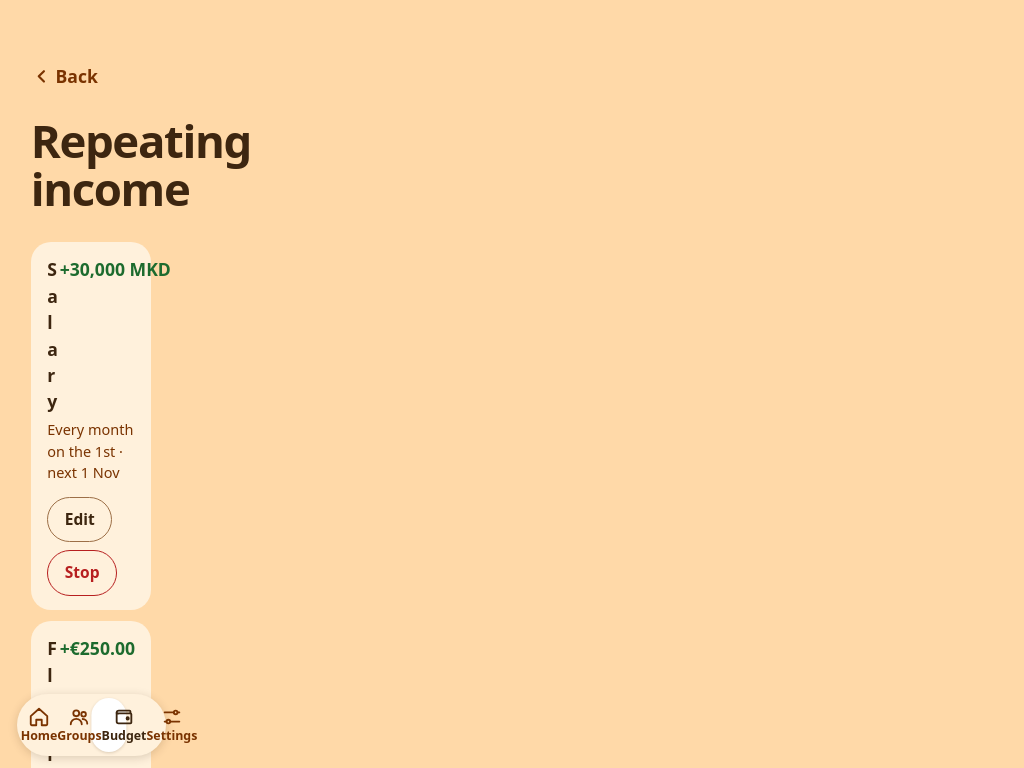
the repeating income screen › Edit › locks the start date of the open edit sheet when the list comes back saying the income now has entries
Click the button "Edit".
click(80, 519)  # box x1=47 y1=496 x2=112 y2=542
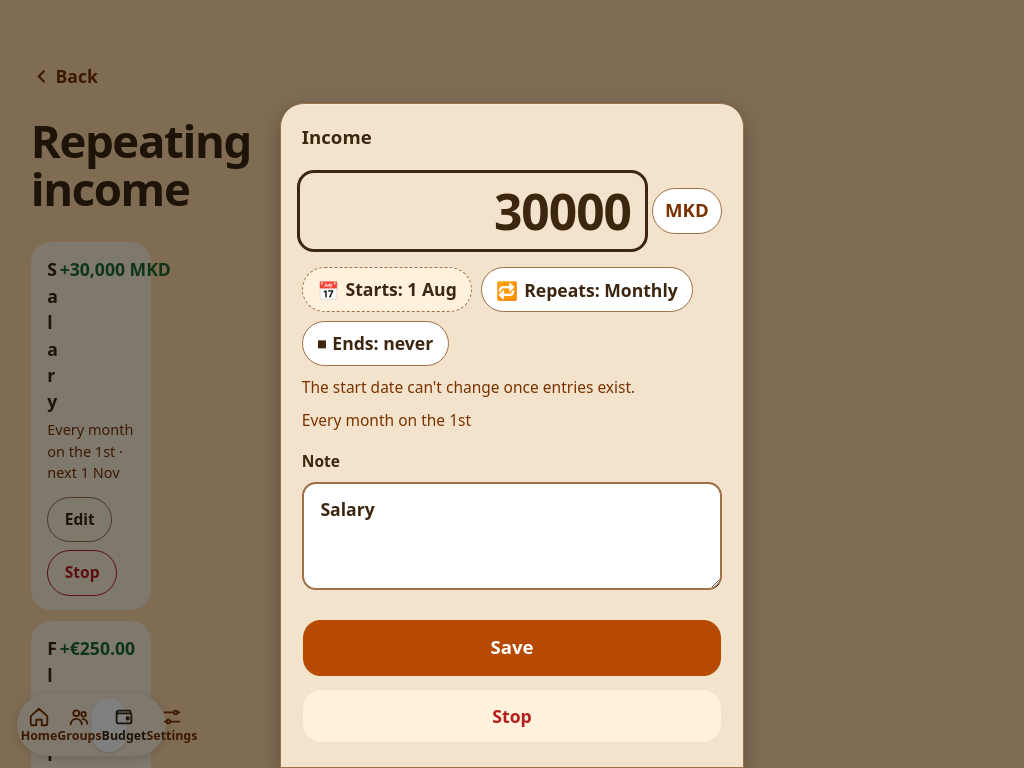
Now the text "The start date can't change once entries exist." is shown, box x1=302 y1=376 x2=635 y2=398
